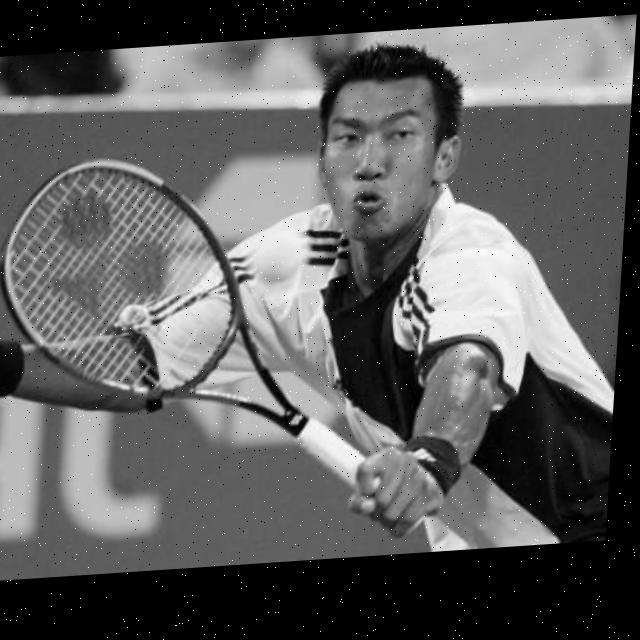face: (300, 67, 474, 257)
